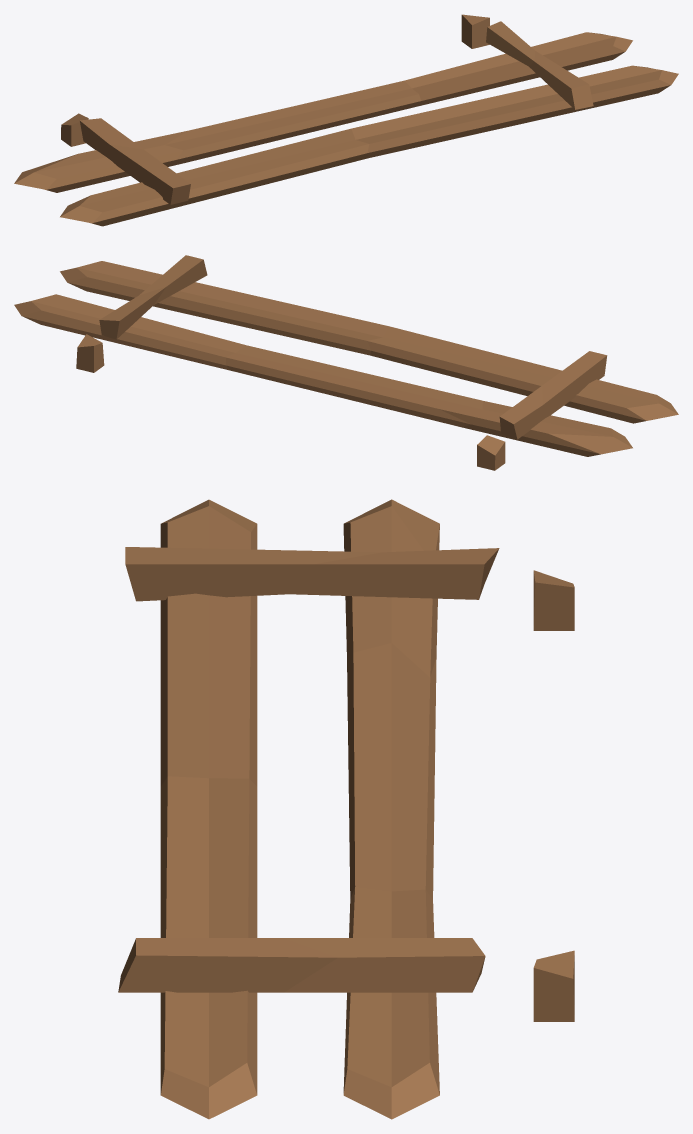
Rendered from Fence_3 Broken.fbx.
3 renders of one model, top to bottom at view 1: azimuth 30°, elevation 25°; view 2: azimuth 150°, elevation 25°; view 3: azimuth 270°, elevation 25°, orthographic. The views are drawn at different scales.
Parts seen in each view (by area): view 1: Fence3Broken_mesh; view 2: Fence3Broken_mesh; view 3: Fence3Broken_mesh.
Part boxes in pixels (x1,y1,x2,y2): Fence3Broken_mesh: (14,14,678,226); Fence3Broken_mesh: (14,255,678,470); Fence3Broken_mesh: (118,499,574,1119).
Bounding box in the file's own units: 336 × 18.55 × 107.
